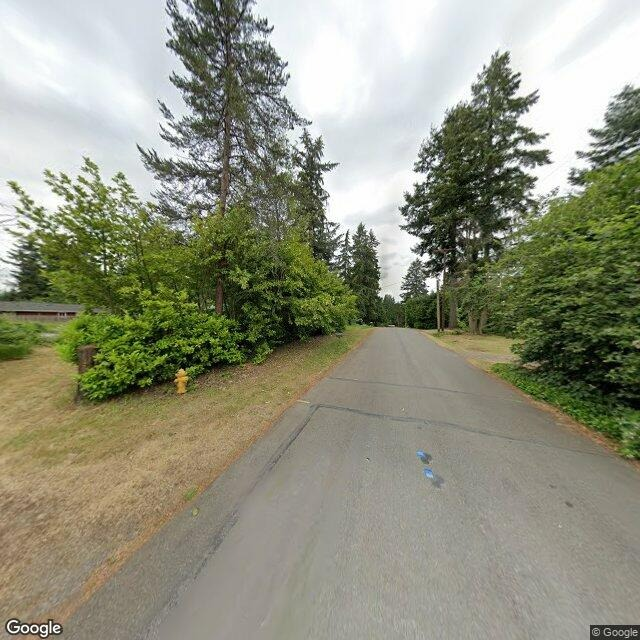hydrant: (169, 362, 193, 397)
